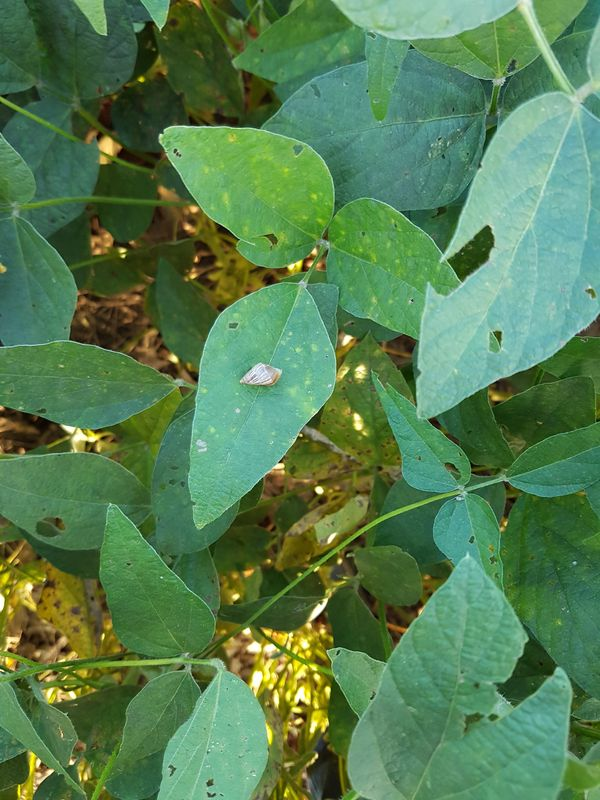Gastropoda: (231, 353, 290, 396)
